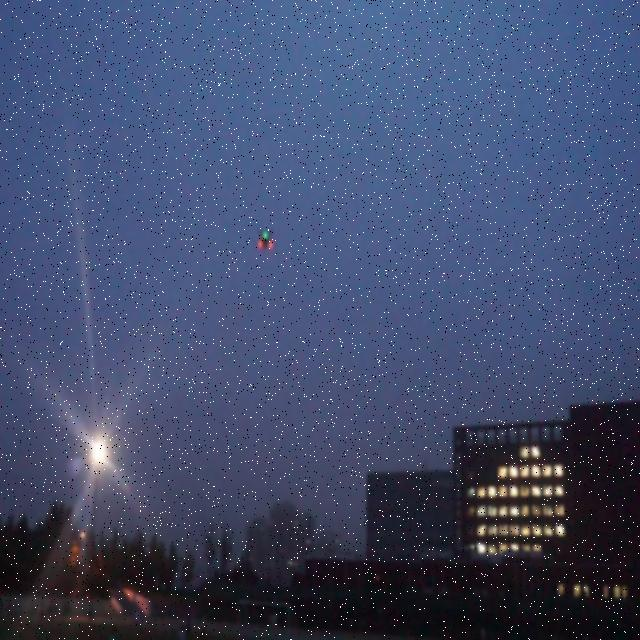UAV: (258, 229, 273, 250)
